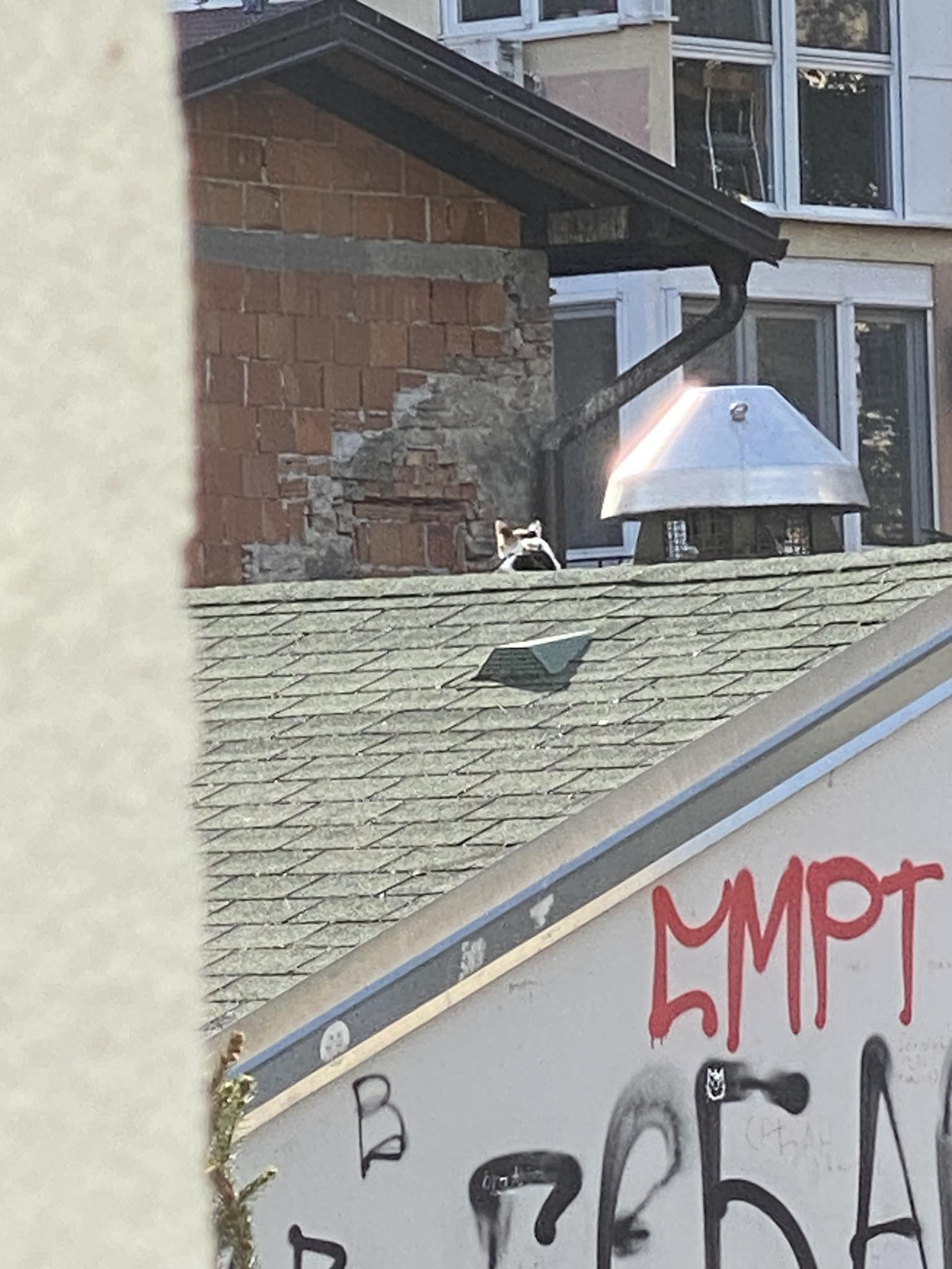macka: (492, 518, 561, 572)
